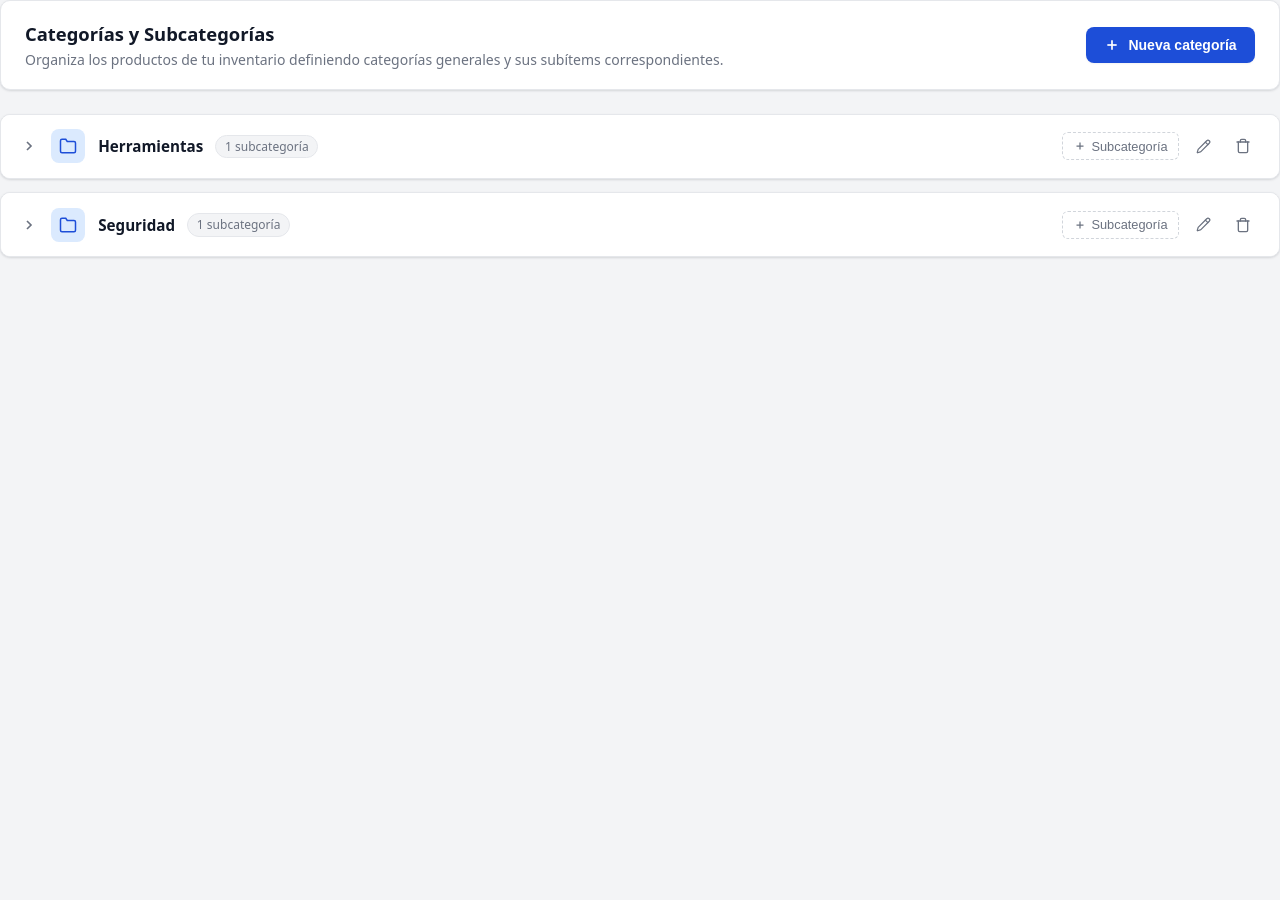
it: CategoriasConfiguracion › permite desplegar una categoría para ver sus subcategorías
The width and height of the screenshot is (1280, 900).
Check: the text "Manuales" is not shown
Note: Clic en la fila de la categoría para expandir
Click the text "Herramientas". click: (151, 146)
box: [98,136,203,156]
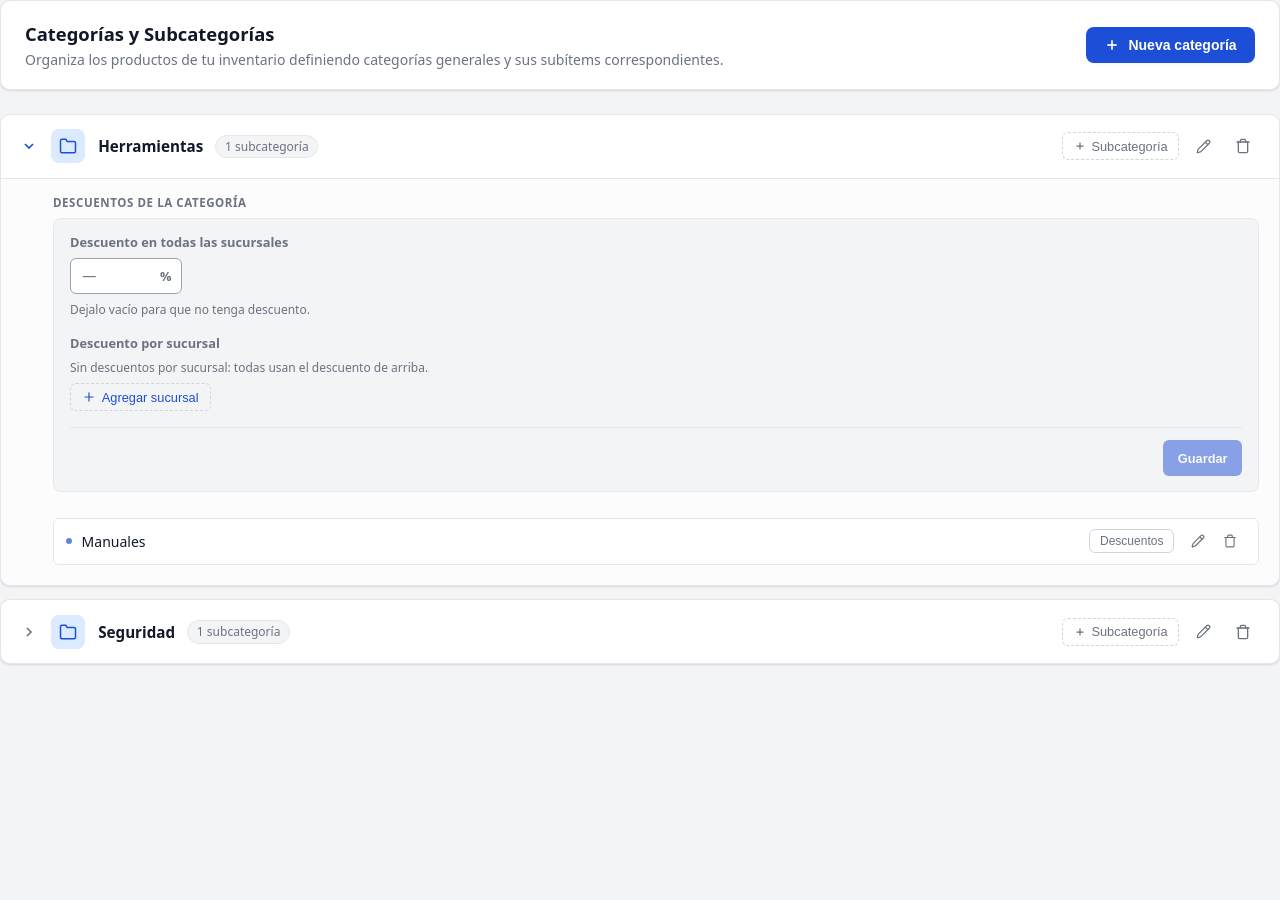
Check: the text "Manuales" is shown, box [82,532,146,551]
